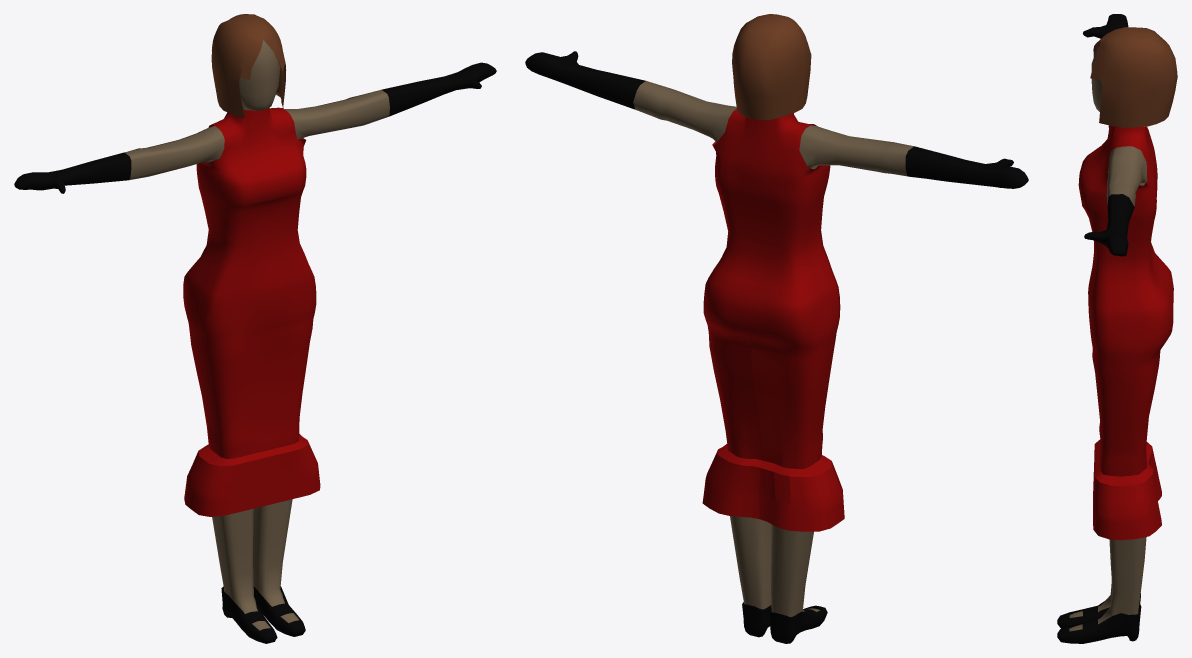
File: SingerNoRigTpose.fbx
3 renders of one model, left to right at view 1: azimuth 30°, elevation 25°; view 2: azimuth 150°, elevation 25°; view 3: azimuth 270°, elevation 25°, orthographic. The views are drawn at different scales.
Parts seen in each view (by area): view 1: dress, body, hair, Shoes; view 2: dress, body, hair, Shoes; view 3: dress, hair, body, Shoes.
Boxes of the visible parts, left/top/right/bottom form: dress: left=183, top=107, right=320, bottom=516; body: left=14, top=40, right=496, bottom=630; hair: left=211, top=14, right=286, bottom=117; Shoes: left=221, top=586, right=305, bottom=643; dress: left=702, top=109, right=844, bottom=531; body: left=525, top=51, right=1028, bottom=617; hair: left=732, top=14, right=811, bottom=120; Shoes: left=742, top=602, right=827, bottom=643; dress: left=1078, top=125, right=1173, bottom=540; hair: left=1090, top=27, right=1177, bottom=127; body: left=1069, top=14, right=1147, bottom=631; Shoes: left=1057, top=593, right=1141, bottom=643.
Size of the model in its own units: 142 by 168 by 30.41.
